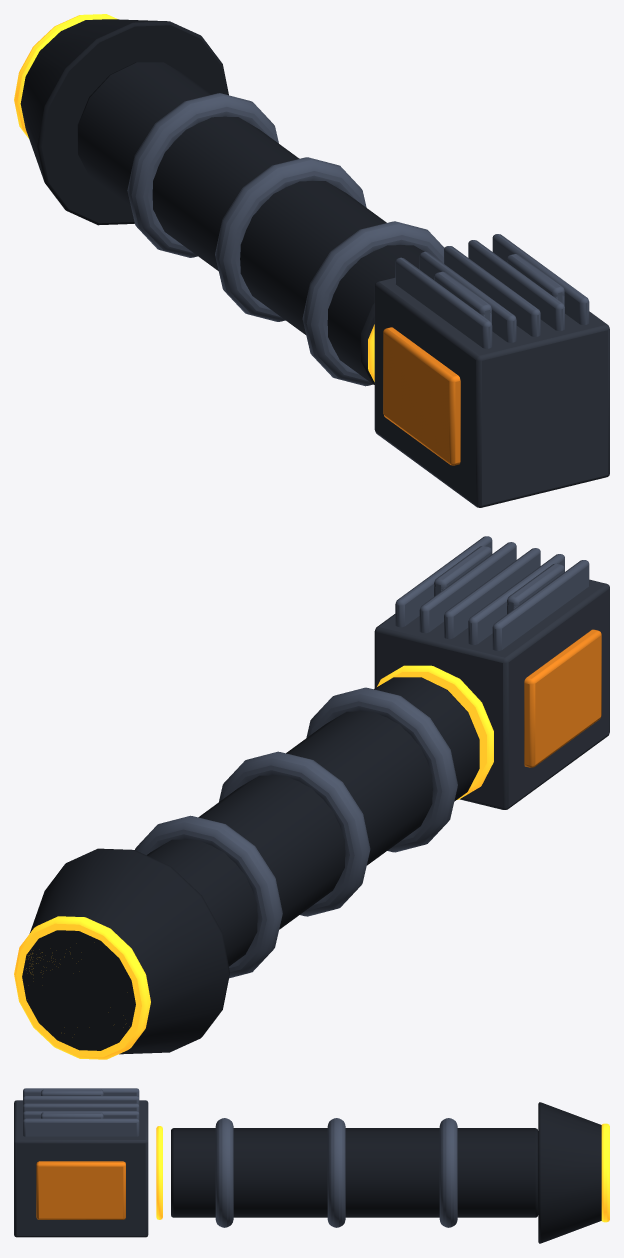
Rendered from wpn_6_nova_cannon.glb.
3 renders of one model, top to bottom at view 1: azimuth 30°, elevation 25°; view 2: azimuth 150°, elevation 25°; view 3: azimuth 270°, elevation 25°, orthographic. The views are drawn at different scales.
Visible parts, largest first — view 1: wpn_6_nova_cannon; view 2: wpn_6_nova_cannon; view 3: wpn_6_nova_cannon.
Part boxes in pixels (<box>): wpn_6_nova_cannon: <box>14,14,609,507</box>; wpn_6_nova_cannon: <box>14,536,609,1059</box>; wpn_6_nova_cannon: <box>14,1088,609,1243</box>.
Size of the model in its own units: 0.3158 by 0.3329 by 1.33.
